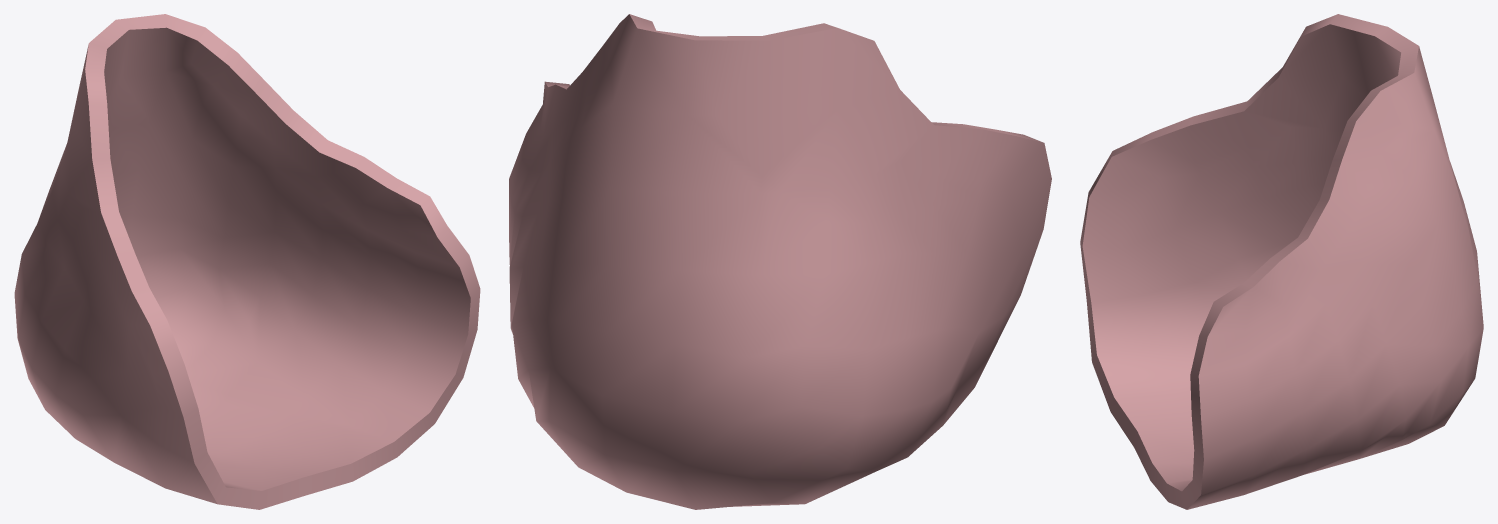
The picture shows the model from 3 angles, left to right: view 1: azimuth 30°, elevation 25°; view 2: azimuth 150°, elevation 25°; view 3: azimuth 270°, elevation 25°; orthographic projection. The views are drawn at different scales.
Visible parts, largest first — view 1: ZA_3686ec834243dc9b; view 2: ZA_3686ec834243dc9b; view 3: ZA_3686ec834243dc9b.
Part boxes in pixels (bbox=[...]): ZA_3686ec834243dc9b: bbox=[14, 14, 480, 509]; ZA_3686ec834243dc9b: bbox=[509, 14, 1051, 509]; ZA_3686ec834243dc9b: bbox=[1080, 14, 1483, 509].
Size of the model in its own units: 0.068 by 0.0676 by 0.0631.
